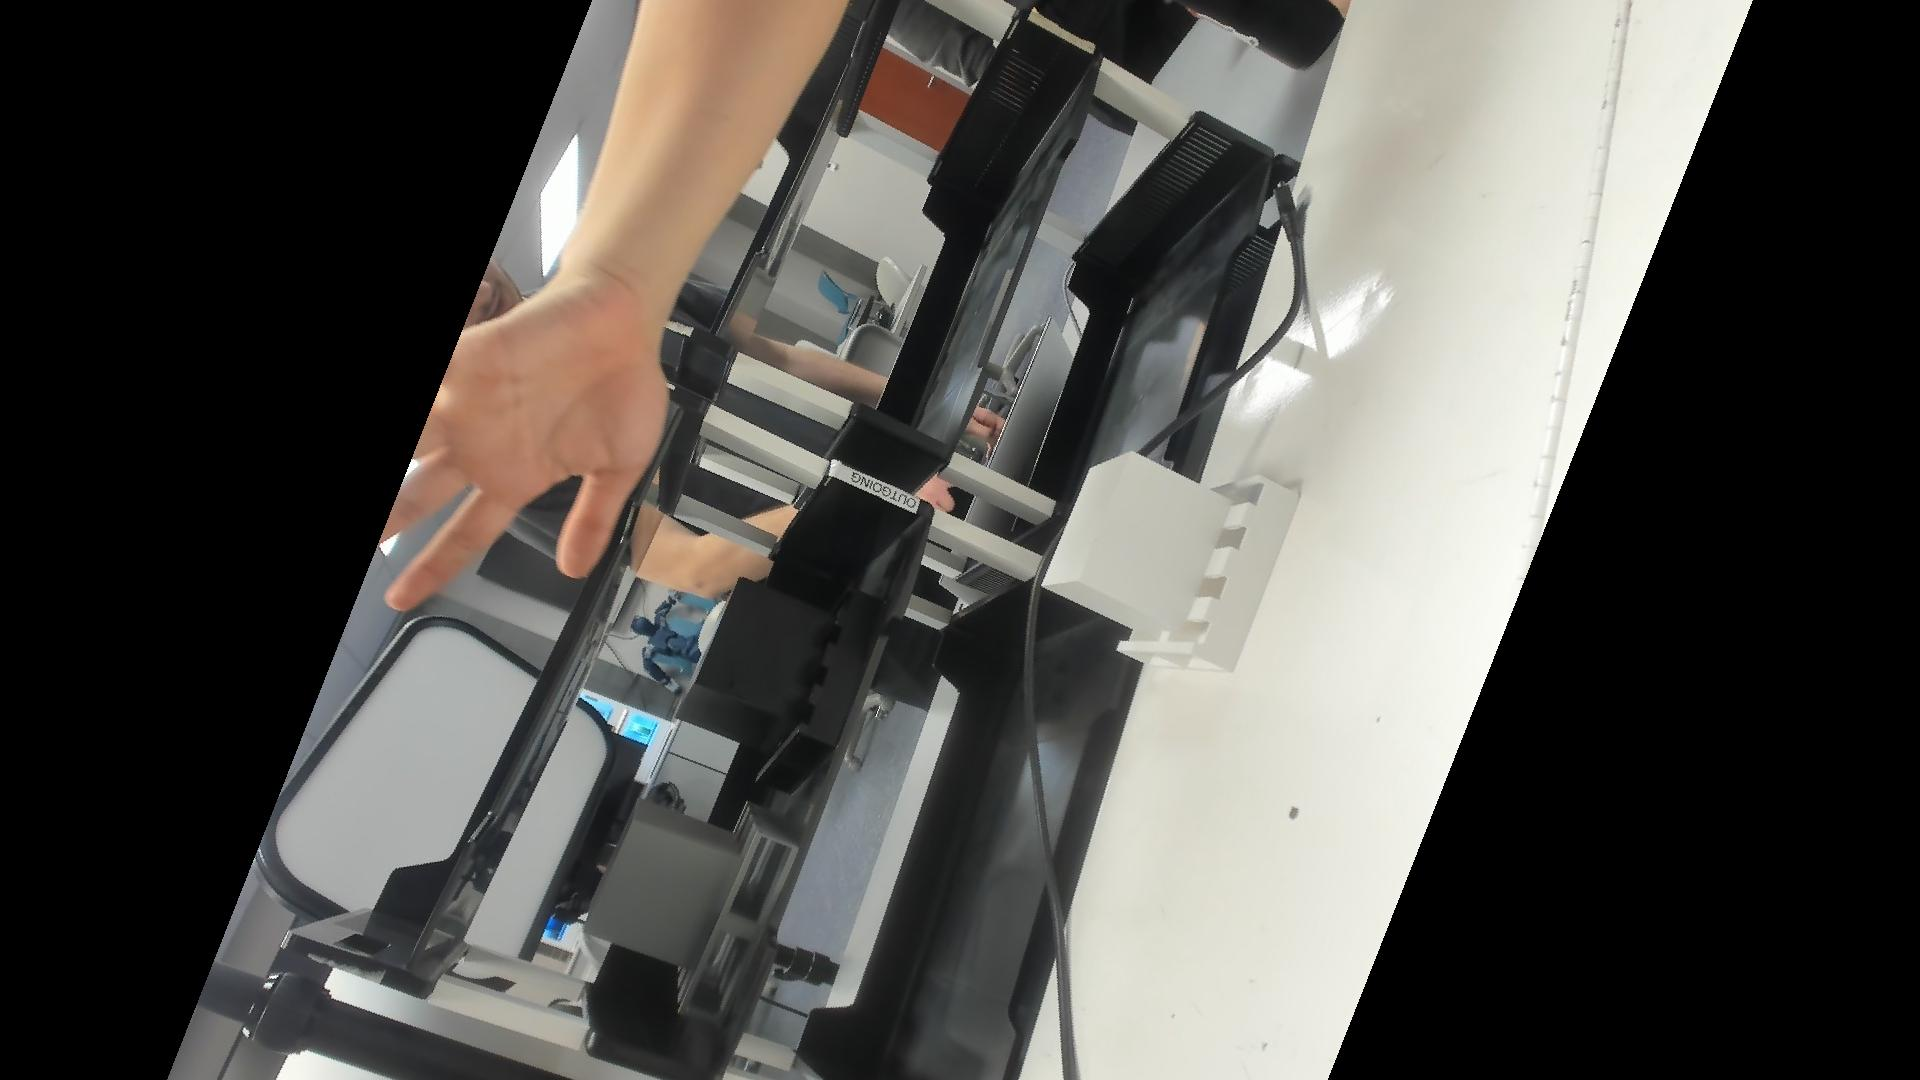black pallet: (673, 572, 894, 797)
grey pallet: (574, 786, 806, 1037)
white pallet: (1036, 449, 1308, 690)
